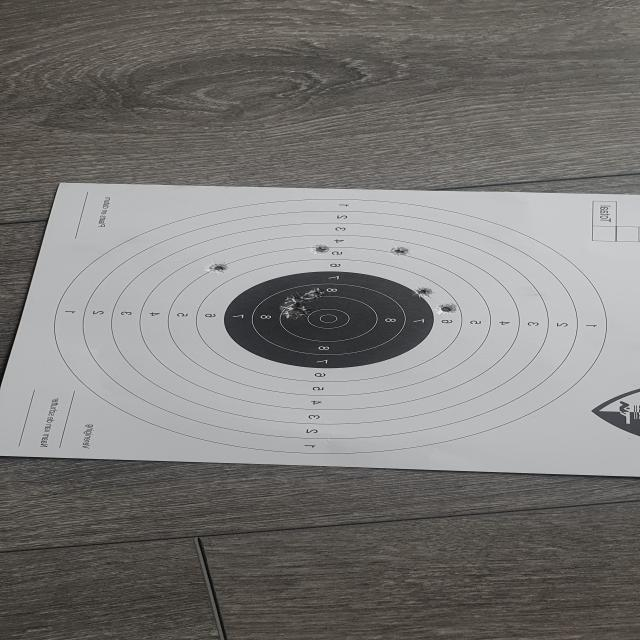5: (387, 245, 413, 258), (203, 262, 229, 274), (308, 243, 332, 254)
6: (432, 303, 458, 315)
7: (408, 286, 437, 298)
9: (279, 304, 311, 319), (283, 293, 313, 306), (304, 287, 326, 298)
Target: (51, 197, 612, 454)
black_contour: (224, 271, 434, 369)
